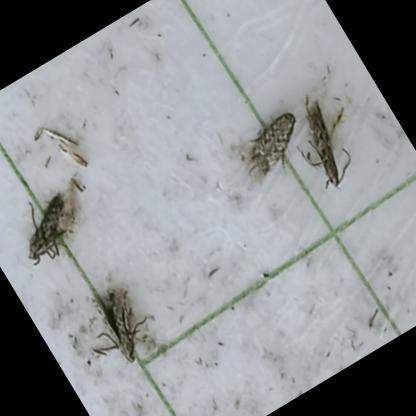prays_oleae: (271, 83, 383, 215), (63, 268, 176, 393), (0, 162, 103, 278), (223, 98, 316, 188)
